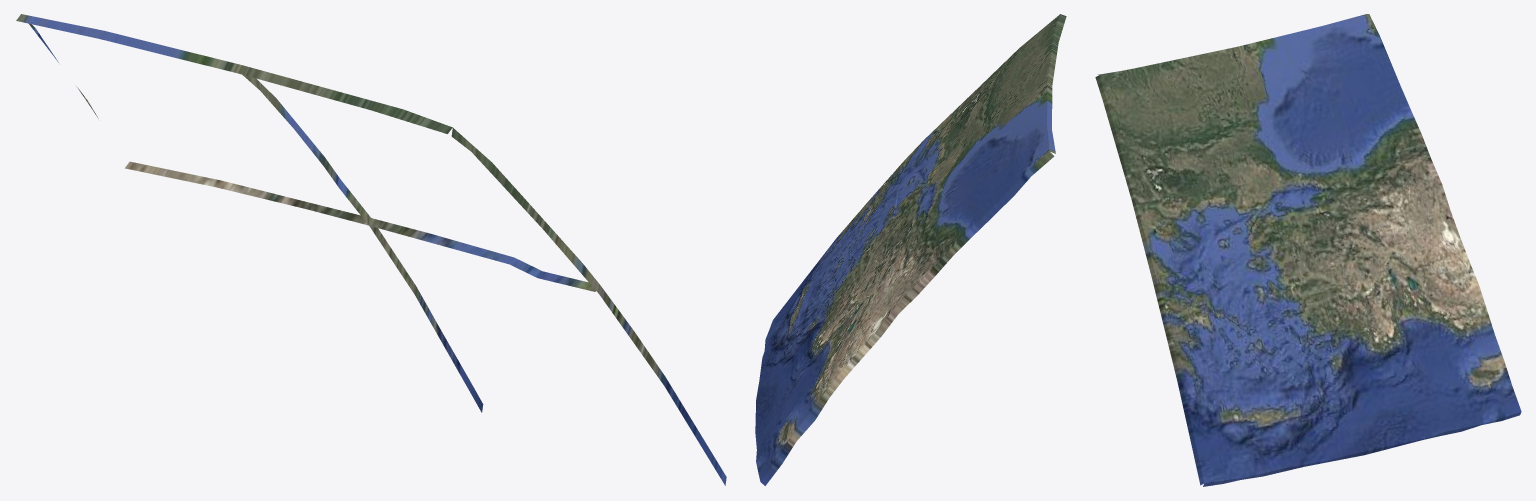
3 renders of one model, left to right at view 1: azimuth 30°, elevation 25°; view 2: azimuth 150°, elevation 25°; view 3: azimuth 270°, elevation 25°, orthographic. The views are drawn at different scales.
Size of the model in its own units: 1162091 by 987475 by 1236108.
1 material, 1 textured.
